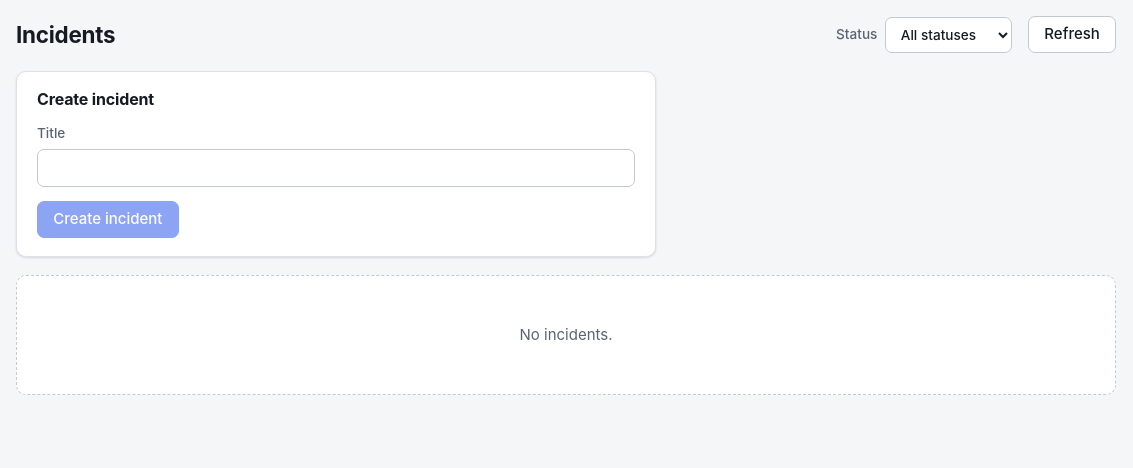
Test: Incidents › preserves the title and displays a creation conflict
Step 1. Type "SSH spike" into the field labelled "Title" → (336, 168), box x1=37 y1=149 x2=635 y2=187
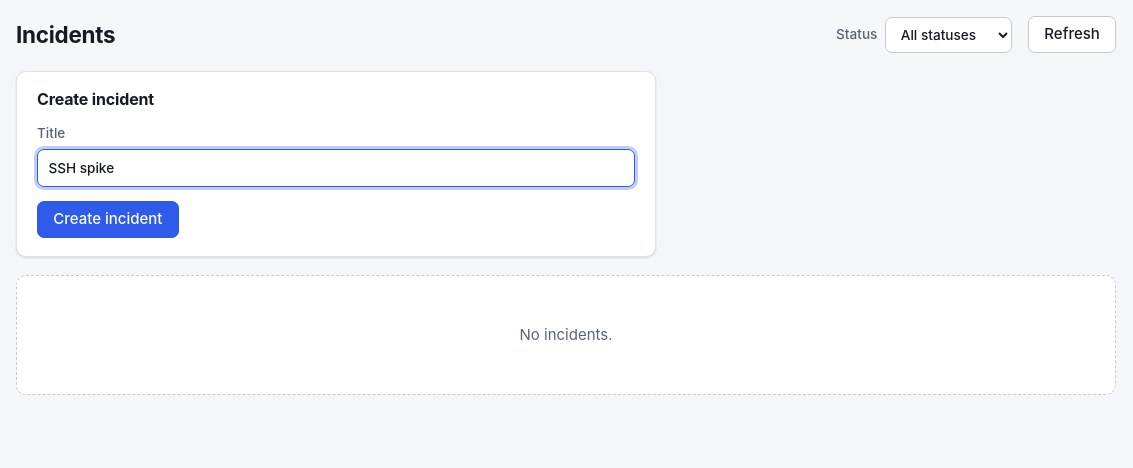
Step 2. Click the button "Create incident" → (108, 220), box x1=37 y1=201 x2=179 y2=238
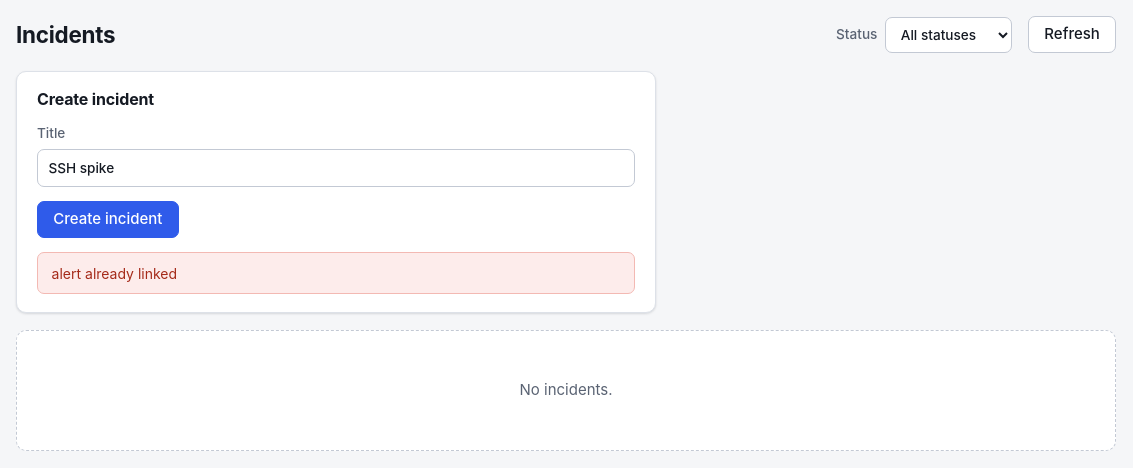
Check: the message reads "alert already linked", box x1=52 y1=264 x2=177 y2=282
